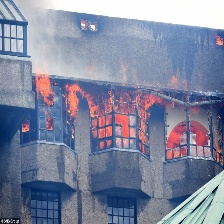fire: (33, 62, 210, 152)
smoke: (18, 3, 75, 74)
